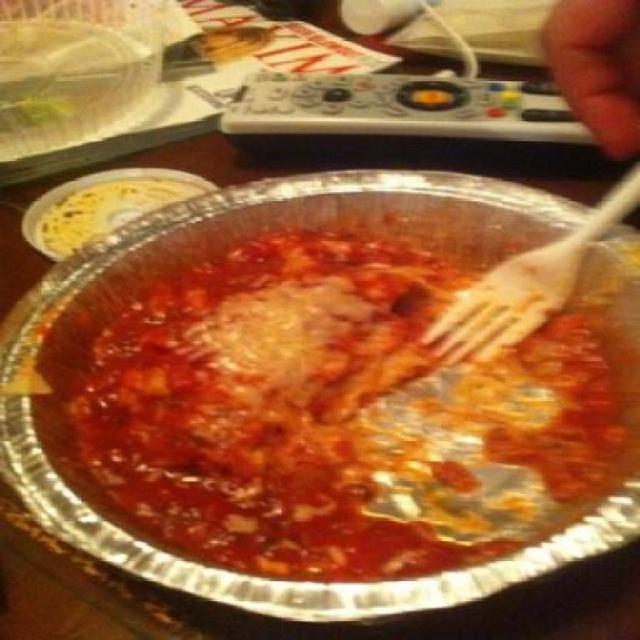Lasagna: (76, 223, 618, 566)
